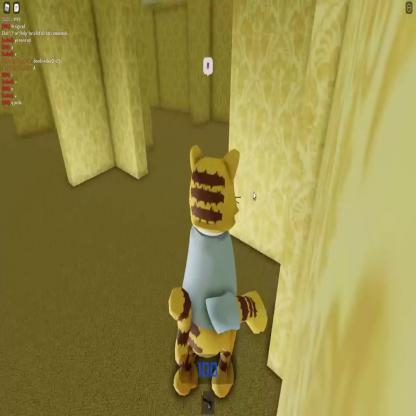Roblox-Avatar: (170, 145, 269, 399)
